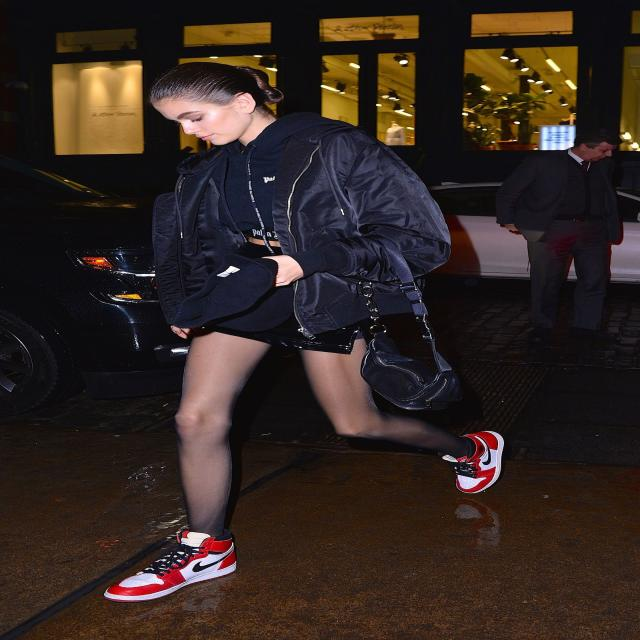nike: (182, 550, 250, 576)
